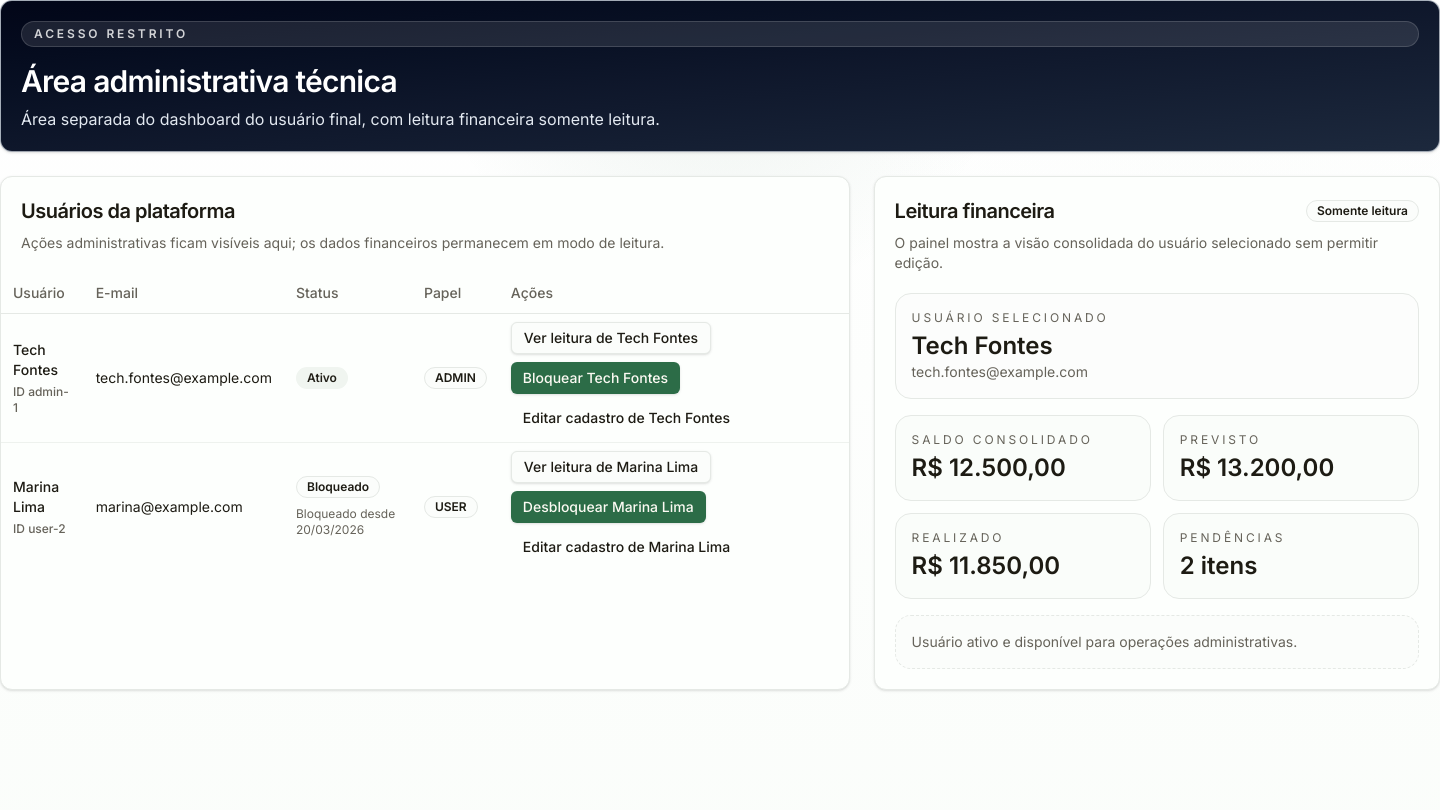
Test: admin console › updates the financial panel when another user is selected
This screenshot has width=1440, height=810.
Click the button "Ver leitura de Marina Lima" at (611, 466), box [511, 450, 711, 482]
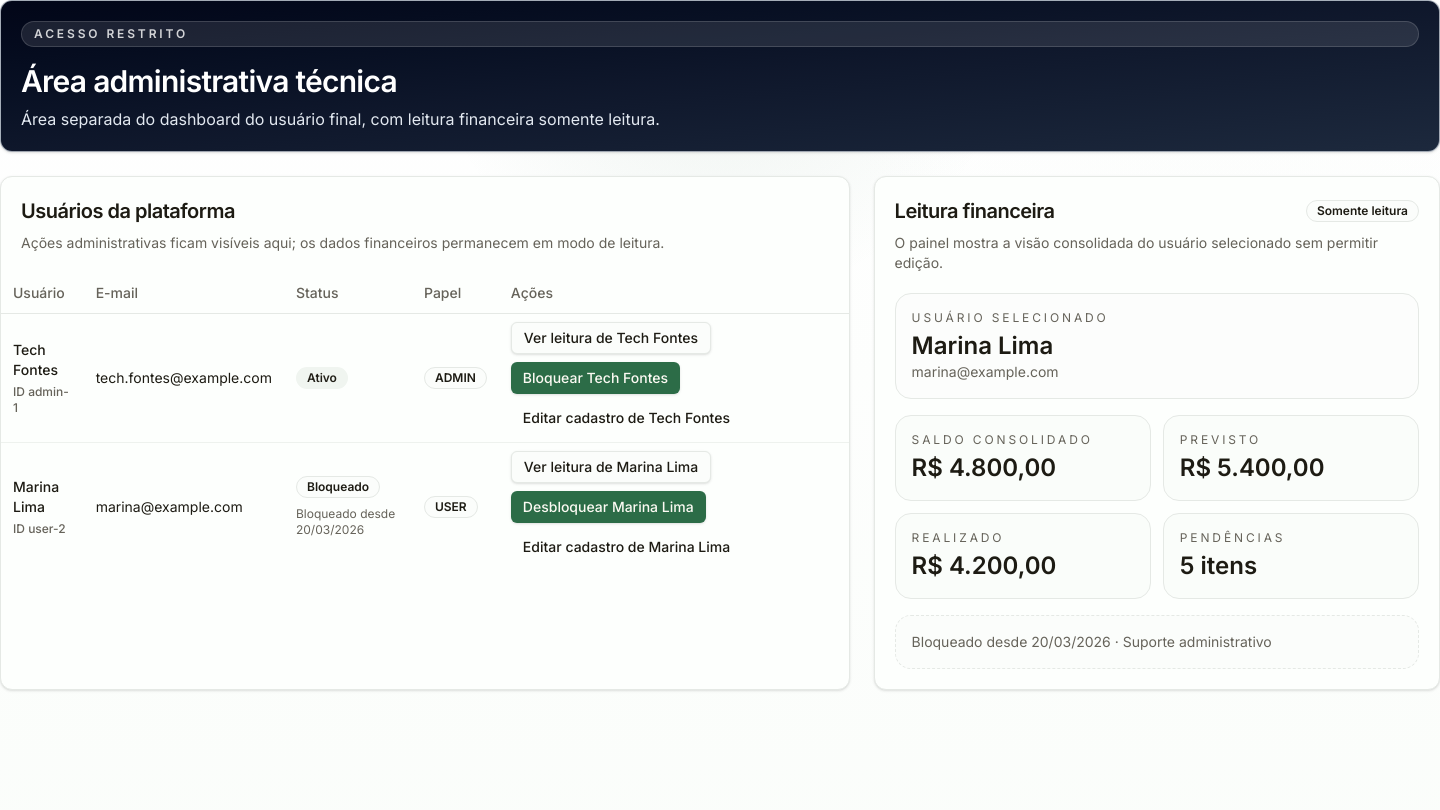
Expected: the text "Bloqueado desde 20/03/2026" is shown, [296, 506, 400, 538]
Result: the heading "Marina Lima" is shown at [912, 331, 1053, 360]
Result: the text "R$ 4.800,00" is shown at [912, 453, 1056, 482]
